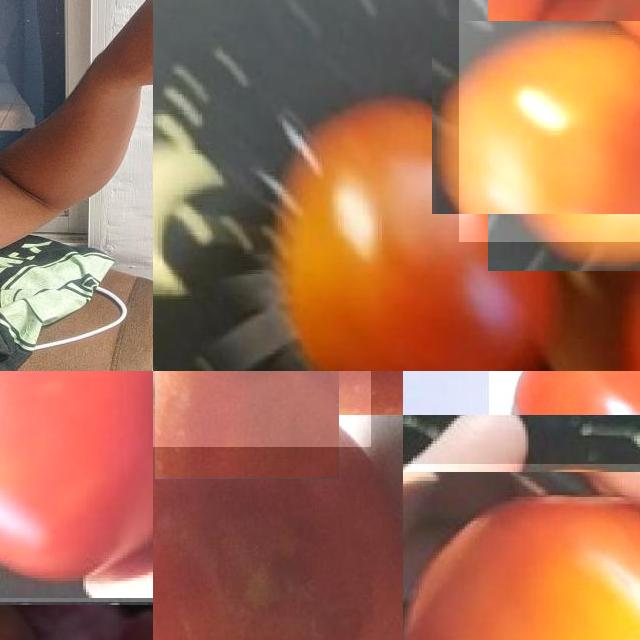0: (403, 463, 640, 640), (489, 371, 640, 415)
1: (153, 415, 403, 640), (153, 371, 371, 447)
Fresh Tomato: (263, 100, 554, 371), (459, 0, 640, 242), (0, 371, 153, 601)
